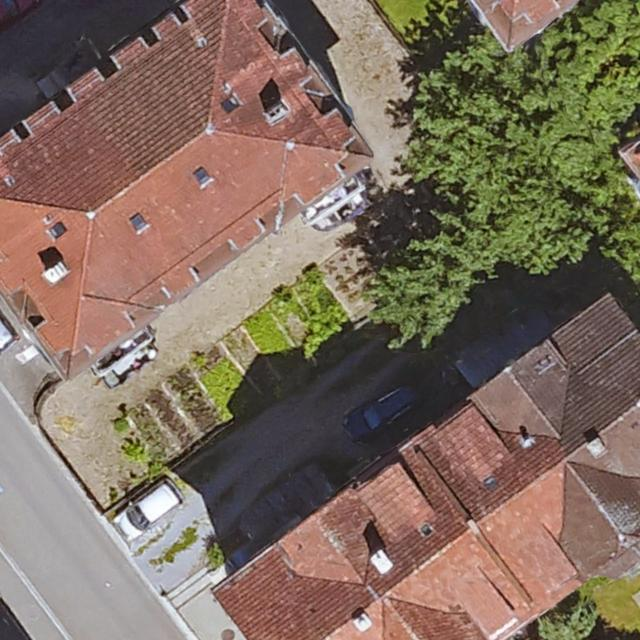tree: (370, 0, 640, 346)
